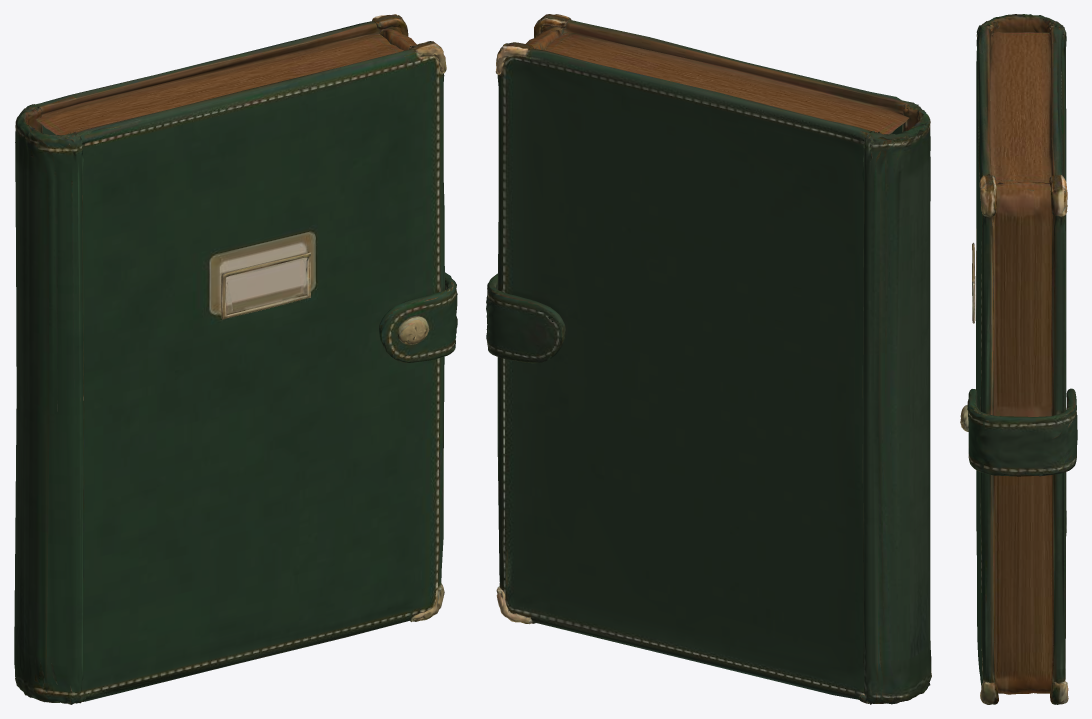
File: hybrid-project-folder-closed.glb
The picture shows the model from 3 angles, left to right: view 1: azimuth 30°, elevation 25°; view 2: azimuth 150°, elevation 25°; view 3: azimuth 270°, elevation 25°; orthographic projection. The views are drawn at different scales.
Visible parts, largest first — view 1: Mesh_0.001; view 2: Mesh_0.001; view 3: Mesh_0.001.
Boxes of the visible parts, box(x1,y1,x2,y2) form: Mesh_0.001: box(14, 14, 457, 704); Mesh_0.001: box(486, 14, 931, 704); Mesh_0.001: box(960, 14, 1077, 704).
Bounding box in the file's own units: 0.2309 × 0.3 × 0.0611.
1 material, 1 textured.
